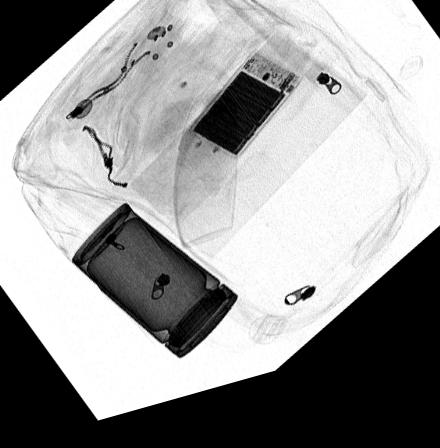Powerbank: (186, 62, 306, 173)
